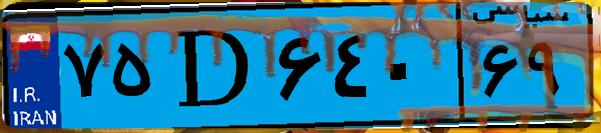0: (385, 28, 445, 110)
4: (330, 28, 385, 110)
5: (110, 28, 158, 98)
6: (270, 28, 330, 110), (475, 38, 525, 113)
7: (57, 26, 110, 100)
9: (525, 38, 570, 115)
D: (158, 12, 270, 120)
